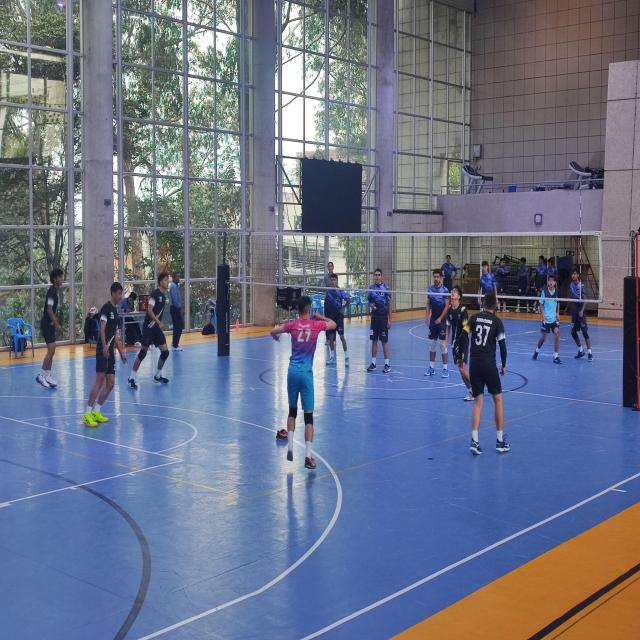volleyball: (90, 306, 98, 316)
